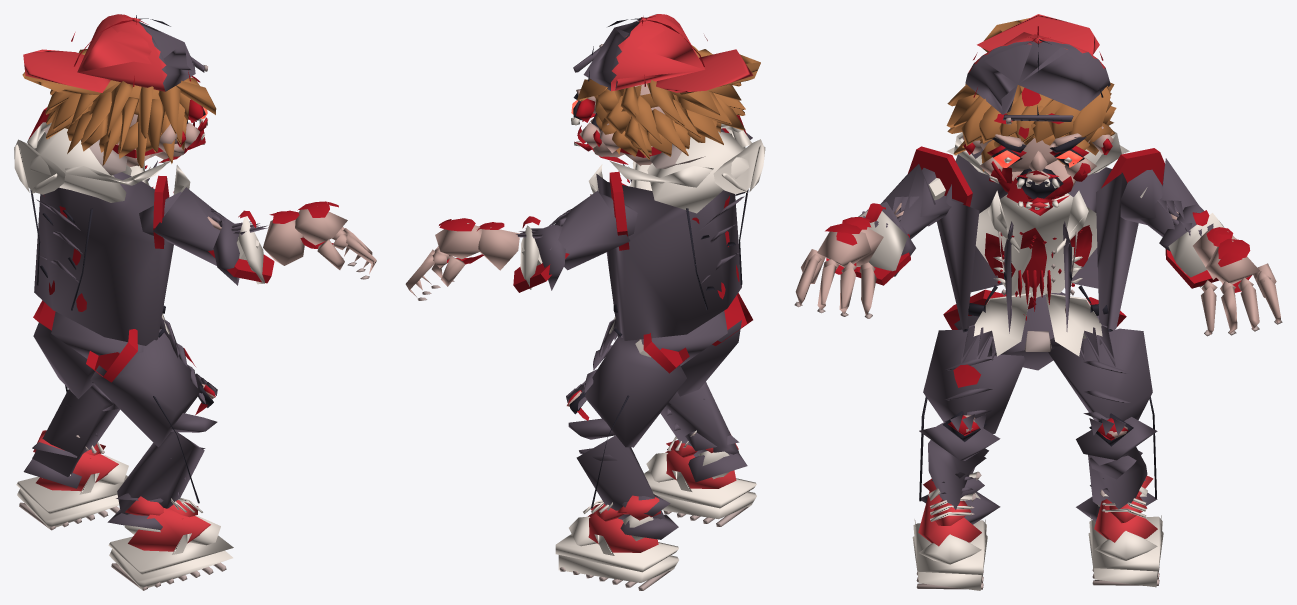
The model's file is inf.teen-skater.lod2.glb.
3 renders of one model, left to right at view 1: azimuth 30°, elevation 25°; view 2: azimuth 150°, elevation 25°; view 3: azimuth 270°, elevation 25°, orthographic. The views are drawn at different scales.
Parts seen in each view (by area): view 1: torso, head, footR, legR, footL, shinR, shinL, foreArmR, armR, handR, legL, hip (+3 smaller); view 2: torso, head, legL, footL, shinL, footR, shinR, armL, foreArmL, handL, legR, hip (+4 smaller); view 3: torso, head, legR, legL, footR, footL, shinL, handR, handL, shinR, armL, foreArmL (+5 smaller).
Part boxes in pixels (left/top/right/bottom): torso: left=14, top=122, right=190, bottom=357; head: left=22, top=14, right=216, bottom=167; footR: left=108, top=496, right=233, bottom=590; legR: left=90, top=329, right=217, bottom=503; footL: left=16, top=430, right=128, bottom=530; shinR: left=107, top=413, right=217, bottom=534; shinL: left=23, top=382, right=119, bottom=488; foreArmR: left=213, top=210, right=304, bottom=285; armR: left=139, top=187, right=225, bottom=265; handR: left=295, top=201, right=376, bottom=279; legL: left=33, top=322, right=95, bottom=398; hip: left=51, top=312, right=143, bottom=358; torso: left=588, top=123, right=765, bottom=357; head: left=571, top=14, right=760, bottom=165; legL: left=566, top=337, right=686, bottom=508; footL: left=555, top=495, right=678, bottom=590; shinL: left=568, top=418, right=678, bottom=540; footR: left=644, top=430, right=756, bottom=526; shinR: left=660, top=382, right=747, bottom=482; armL: left=549, top=190, right=637, bottom=270; foreArmL: left=477, top=216, right=565, bottom=290; handL: left=405, top=218, right=483, bottom=300; legR: left=639, top=320, right=741, bottom=396; hip: left=641, top=311, right=727, bottom=365; torso: left=936, top=131, right=1138, bottom=366; head: left=946, top=14, right=1116, bottom=215; legR: left=919, top=329, right=1025, bottom=501; legL: left=1048, top=328, right=1156, bottom=498; footR: left=912, top=471, right=987, bottom=590; footL: left=1088, top=475, right=1163, bottom=587; shinL: left=1076, top=417, right=1157, bottom=521; handR: left=794, top=223, right=876, bottom=318; handL: left=1201, top=239, right=1282, bottom=336; shinR: left=919, top=419, right=1000, bottom=524; armL: left=1120, top=158, right=1198, bottom=236; foreArmL: left=1159, top=204, right=1236, bottom=287.
Bounding box in the file's own units: 0.6935 × 1.38 × 1.14.
